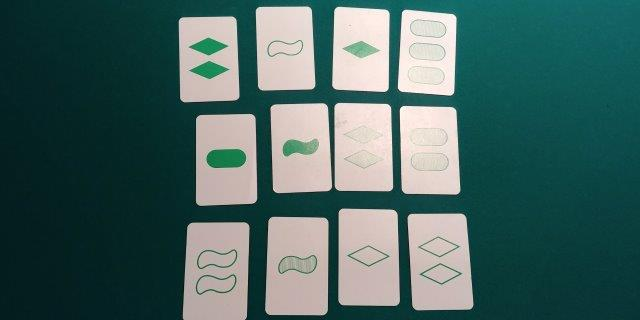1ED: (343, 210, 394, 306)
1EW: (259, 9, 308, 86)
1FD: (335, 11, 386, 87)
1FP: (198, 117, 251, 200)
1FW: (275, 105, 324, 188)
1HW: (271, 218, 324, 313)
2ED: (412, 217, 465, 305)
2EW: (189, 228, 242, 320)
2FD: (182, 19, 234, 97)
2HD: (337, 105, 389, 189)
2HP: (404, 109, 453, 192)
3HP: (403, 14, 451, 89)
